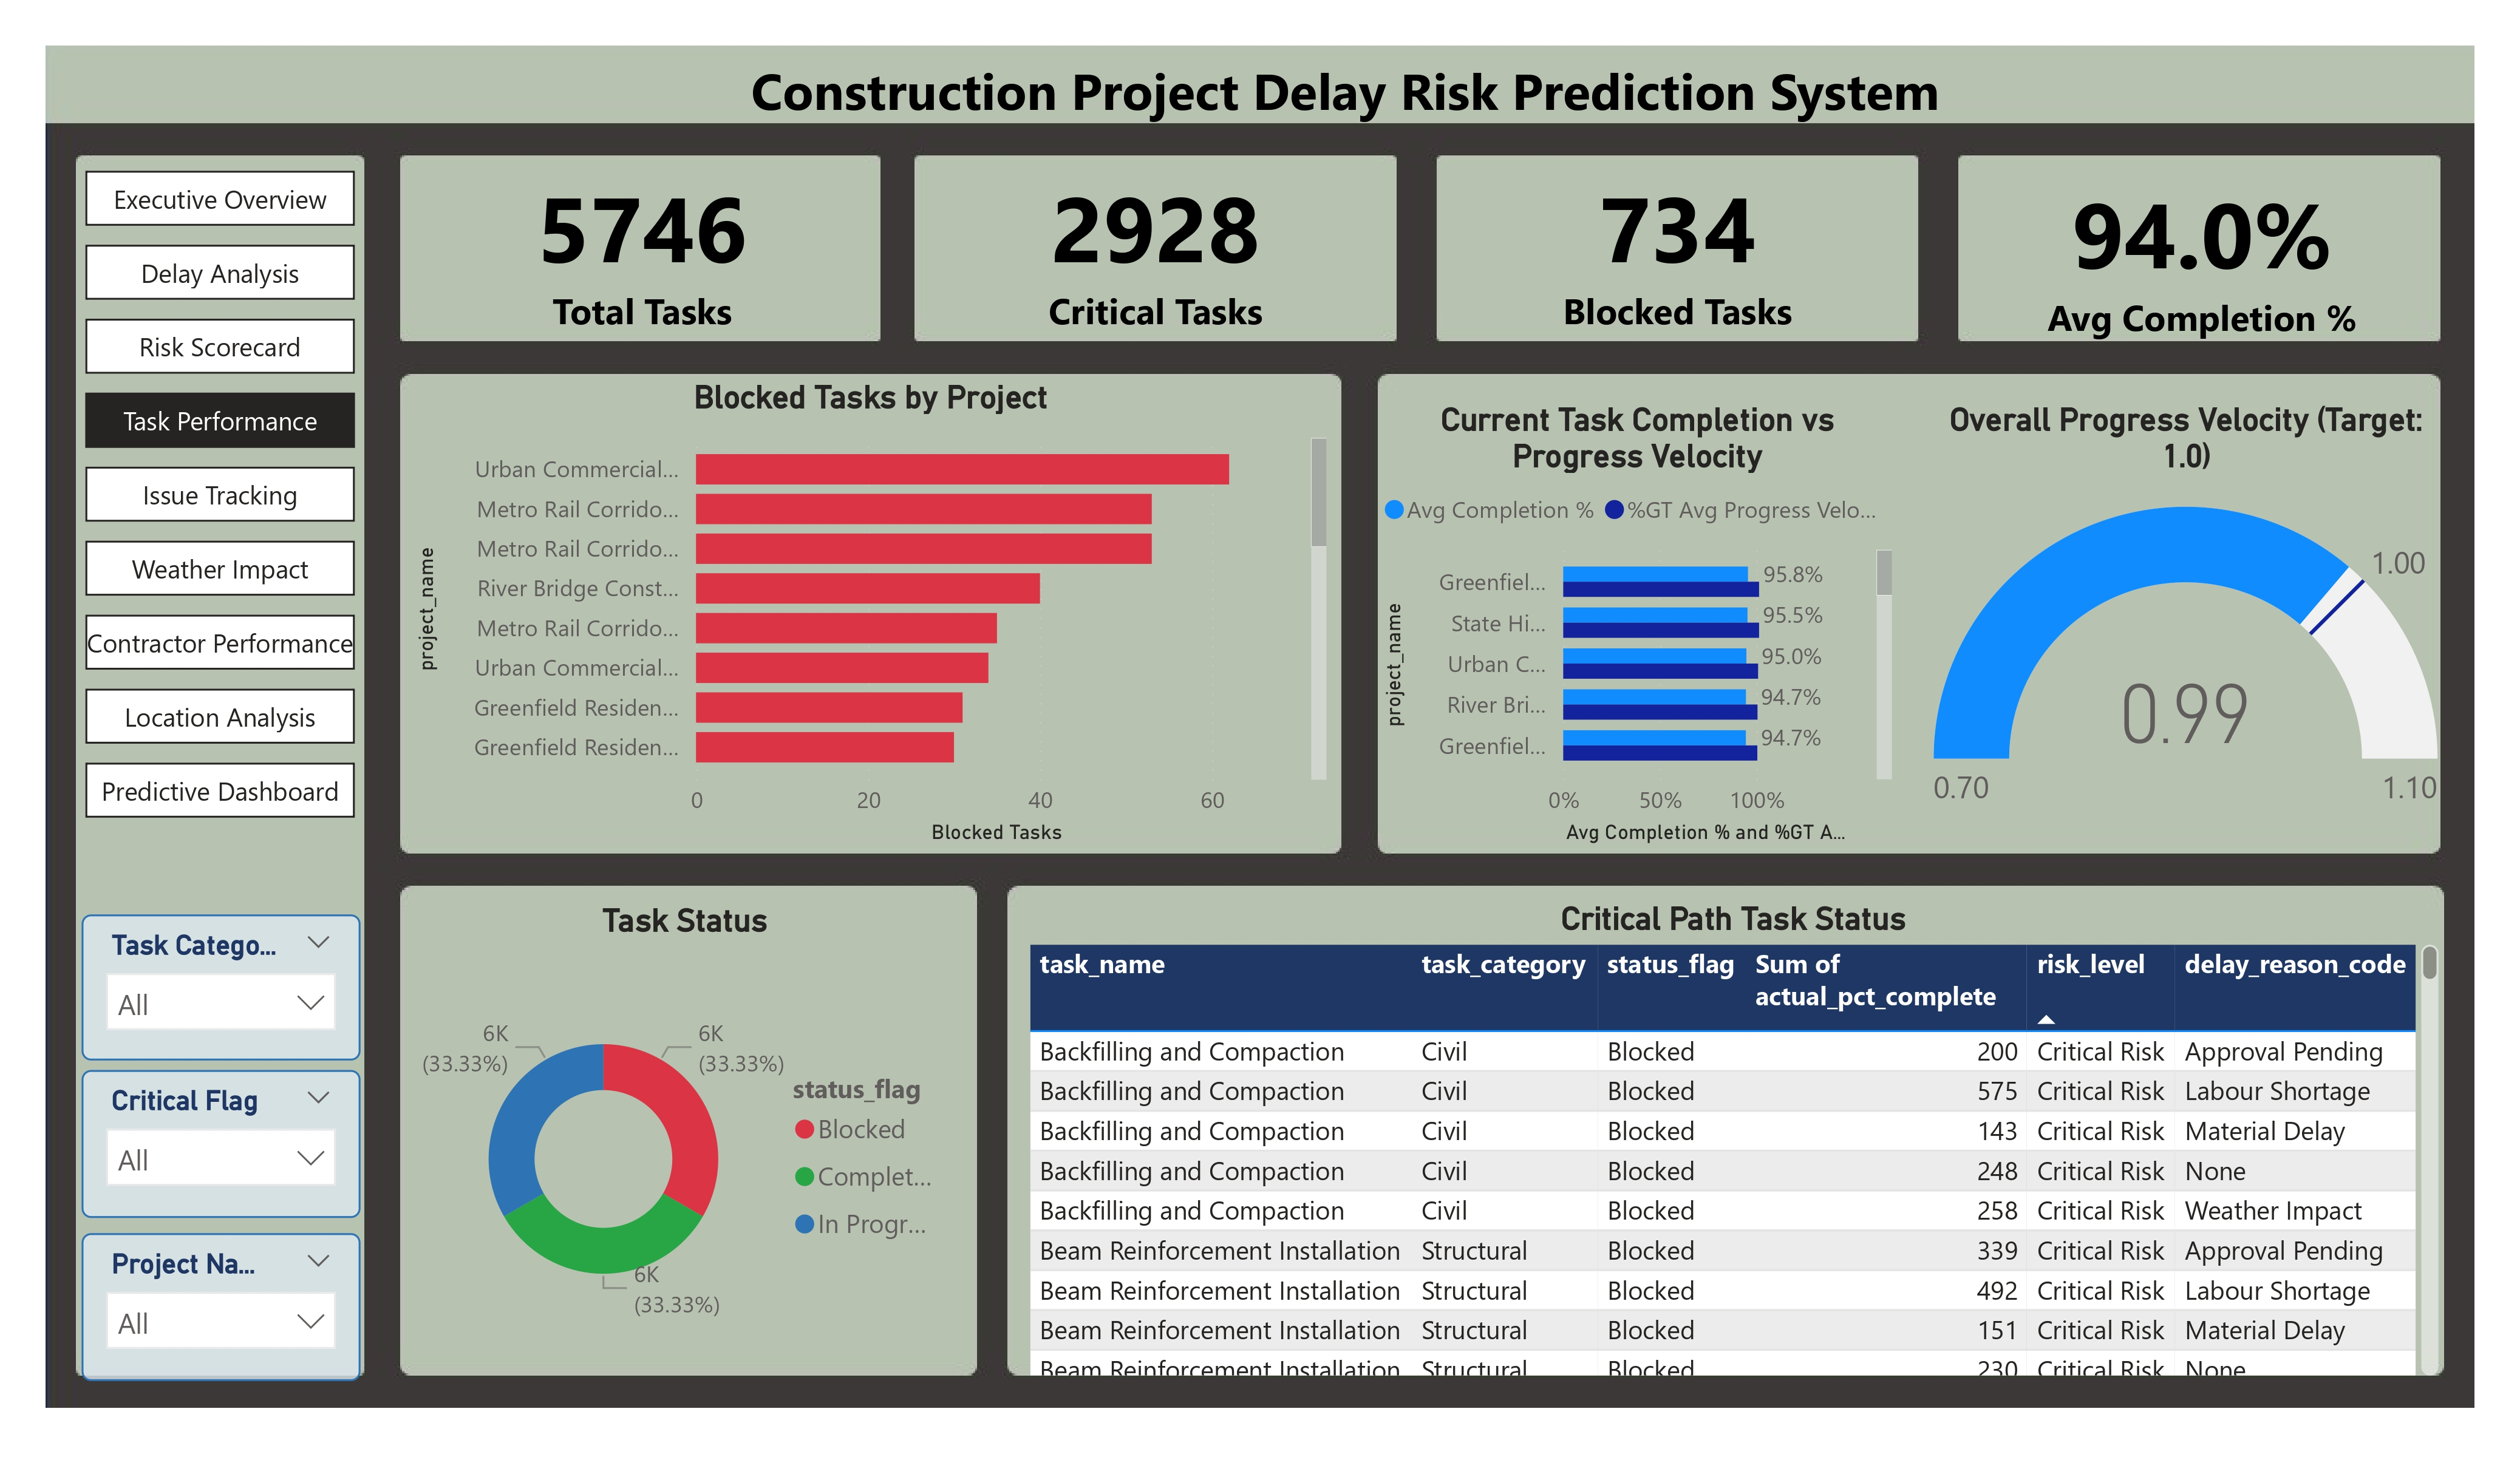

This screenshot's page, from the dashboard's own definition file:
{"tool":"powerbi","page":{"name":"Task Performance","canvas":[1280,720],"ordinal":3},"visuals":[{"type":"card","fields":{"Values":["**Measures**.Total Tasks"]},"box":[183.3,56.7,262.2,98.9],"z":0},{"type":"card","fields":{"Values":["**Measures**.Critical Tasks"]},"box":[457.8,56.7,254.4,98.9],"z":1000},{"type":"card","fields":{"Values":["**Measures**.Blocked Tasks"]},"box":[730,56.7,260,98.9],"z":2000},{"type":"card","fields":{"Values":["**Measures**.Avg Completion %"]},"box":[1005.6,56.7,261.1,106.7],"z":3000},{"type":"donutChart","title":"Task Status","fields":{"Category":["facttaskprogress.status_flag"],"Y":["**Measures**.Total Tasks"]},"box":[189.4,450.6,295.2,253.4],"z":4000},{"type":"tableEx","title":"Critical Path Task Status","fields":{"Values":["vw_criticalpathrisk.task_name","vw_criticalpathrisk.task_category","vw_criticalpathrisk.status_flag","Sum(vw_criticalpathrisk.actual_pct_complete)","vw_criticalpathrisk.risk_level","vw_criticalpathrisk.delay_reason_code"]},"box":[512.5,450,753.8,256.2],"z":6000},{"type":"clusteredBarChart","title":"Blocked Tasks by Project","fields":{"Category":["factprojectmetrics.project_name"],"Y":["**Measures**.Blocked Tasks"]},"box":[190,175,490,251.2],"z":7000},{"type":"slicer","fields":{"Values":["dimtasks.task_category"]},"box":[18.8,457.5,147.5,77.5],"z":8000},{"type":"slicer","fields":{"Values":["dimtasks.critical_flag"]},"box":[18.8,540,147.5,77.5],"z":9000},{"type":"slicer","fields":{"Values":["factprojectmetrics.project_name"]},"box":[18.8,626.2,147.5,77.5],"z":10000},{"type":"pageNavigator","box":[21.2,66.2,141.2,343.8],"z":11000},{"type":"gauge","title":"Overall Progress Velocity (Target: 1.0)","fields":{"Y":["**Measures**.Avg Progress Velocity"]},"box":[990,186.8,275.6,239],"z":13000},{"type":"clusteredBarChart","title":"Current Task Completion vs Progress Velocity","fields":{"Category":["factprojectmetrics.project_name"],"Y":["**Measures**.Avg Completion %","**Measures**.Avg Progress Velocity"]},"box":[700.1,186.8,278.2,239],"z":14000},{"type":"textbox","box":[366.7,0,656,56],"z":14001}]}

Visuals, with their boxes on the page's 1280x720 design canvas (x1, y1, x2, y2). These are canvas units, not pixel positions in the 2520x1457 screenshot, which may show the page scaled, cropped or inside an application window:
card - **Measures**.Total Tasks: region(183, 57, 446, 156)
card - **Measures**.Critical Tasks: region(458, 57, 712, 156)
card - **Measures**.Blocked Tasks: region(730, 57, 990, 156)
card - **Measures**.Avg Completion %: region(1006, 57, 1267, 163)
"Task Status" donutChart: region(189, 451, 485, 704)
"Critical Path Task Status" tableEx: region(512, 450, 1266, 706)
"Blocked Tasks by Project" clusteredBarChart: region(190, 175, 680, 426)
slicer - dimtasks.task_category: region(19, 458, 166, 535)
slicer - dimtasks.critical_flag: region(19, 540, 166, 618)
slicer - factprojectmetrics.project_name: region(19, 626, 166, 704)
pageNavigator: region(21, 66, 162, 410)
"Overall Progress Velocity (Target: 1.0)" gauge: region(990, 187, 1266, 426)
"Current Task Completion vs Progress Velocity" clusteredBarChart: region(700, 187, 978, 426)
textbox: region(367, 0, 1023, 56)
